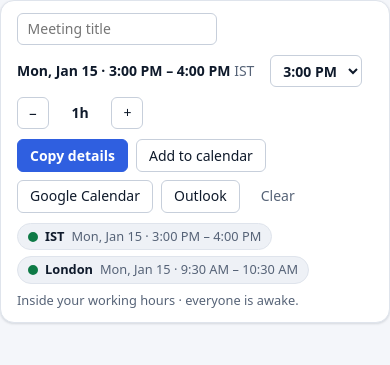
it: PlannerBar › reports a copy failure instead of pretending it worked
Click the button "Copy details": (72, 155) [17,139,128,172]
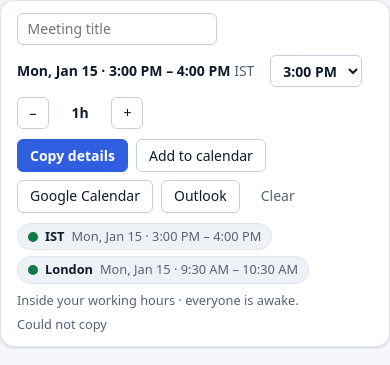
Check: the text "Could not copy" is shown, box [17,315,107,333]
